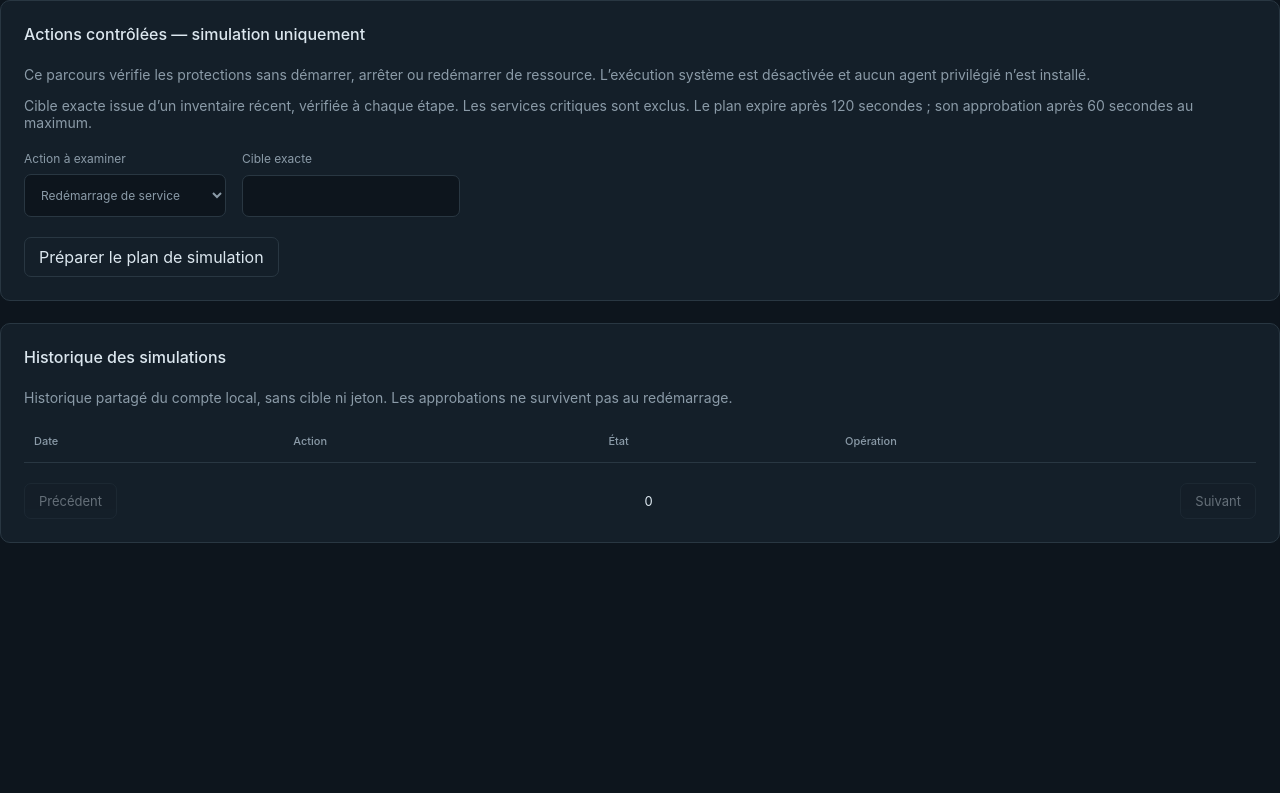
Test case: discards approval flow when target revalidation fails
Step 1. Type "cron.service" into the field labelled "Cible exacte" → (351, 196), box [242, 175, 460, 217]
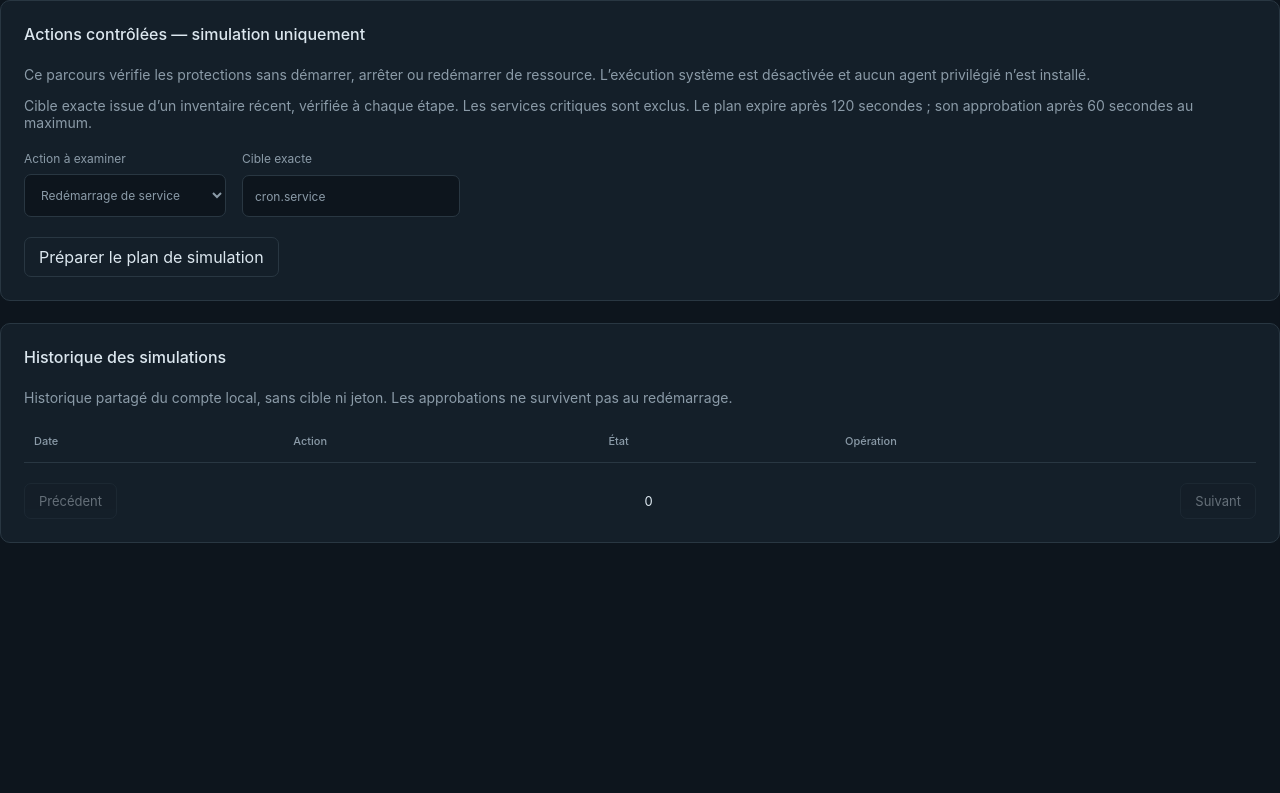
Step 2. Click the button "Préparer le plan de simulation" → click(151, 257), box [24, 237, 279, 277]
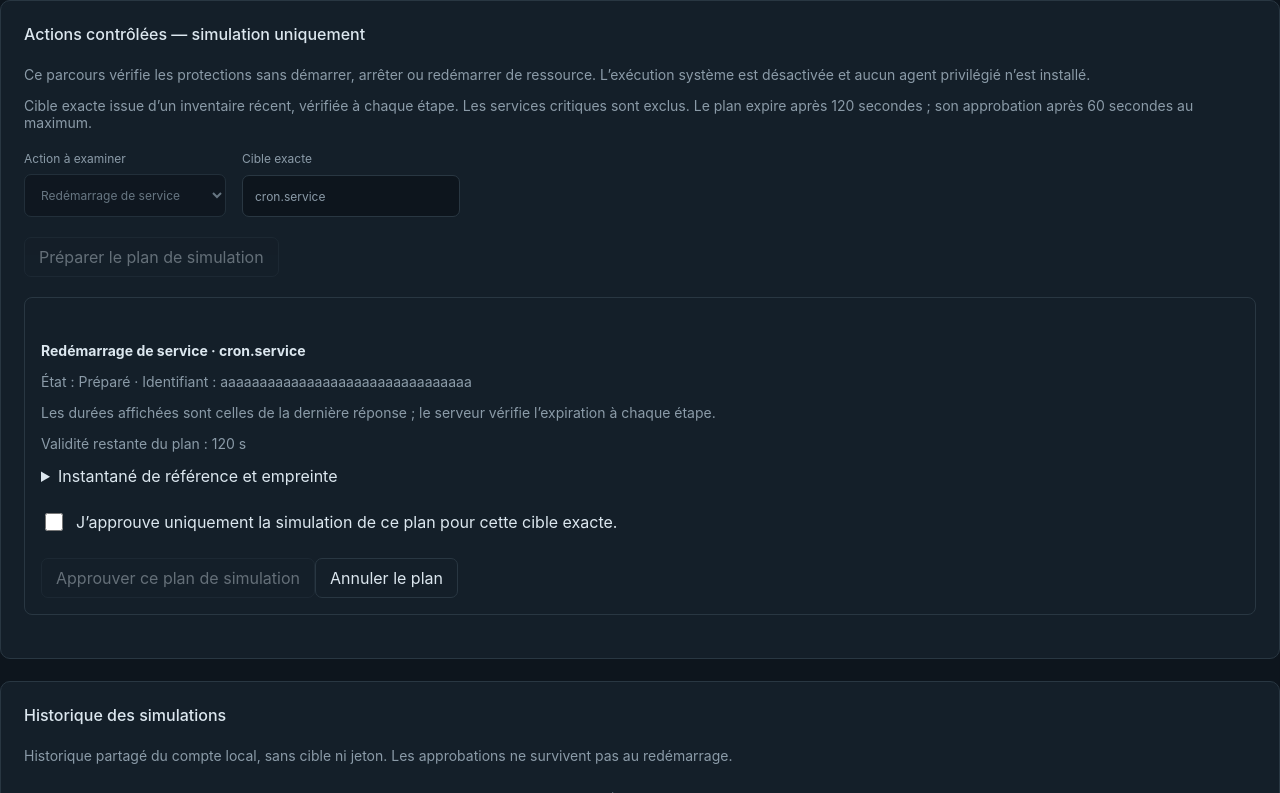
Result: the heading "Redémarrage de service · cron.service" is shown at [41, 342, 306, 359]
Step 3. Click the checkbox → click(54, 522), box [45, 513, 63, 531]
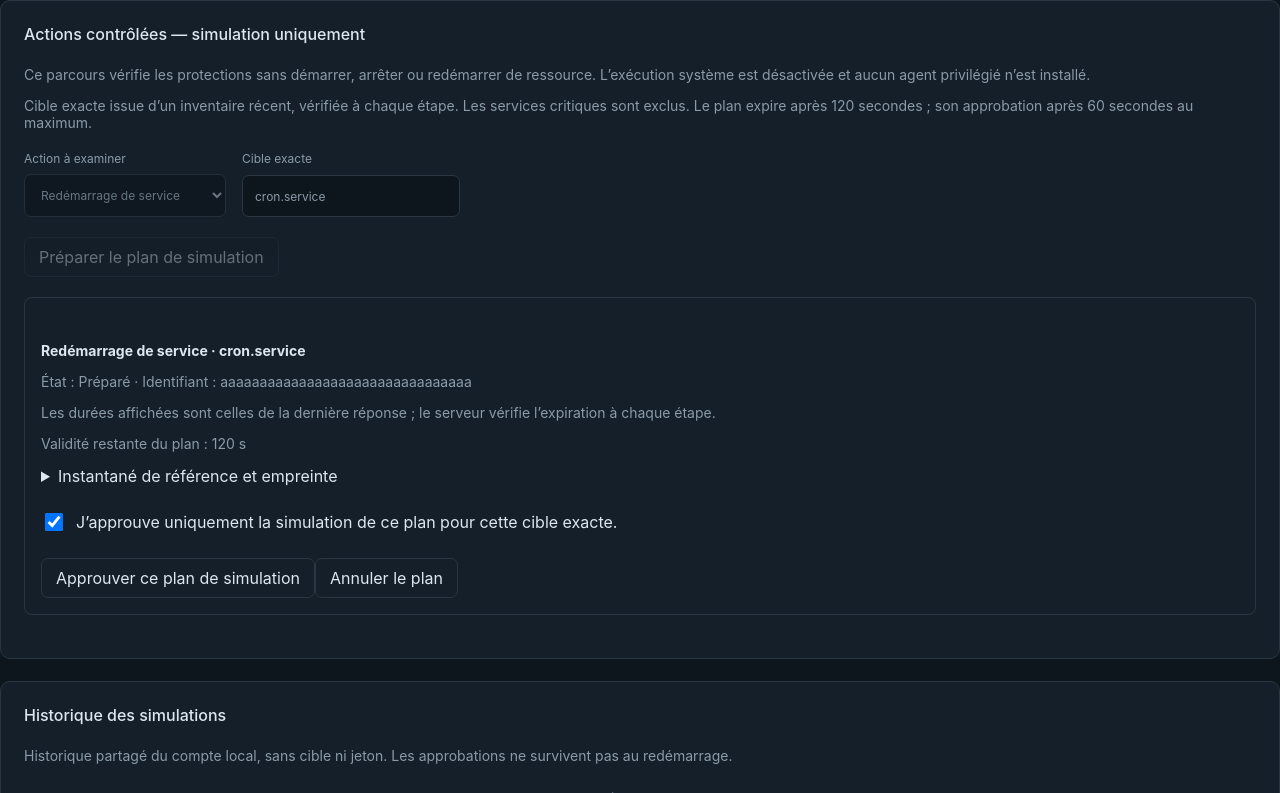
Step 4. Click the button "Approuver ce plan de simulation" → click(178, 578), box [41, 558, 315, 598]
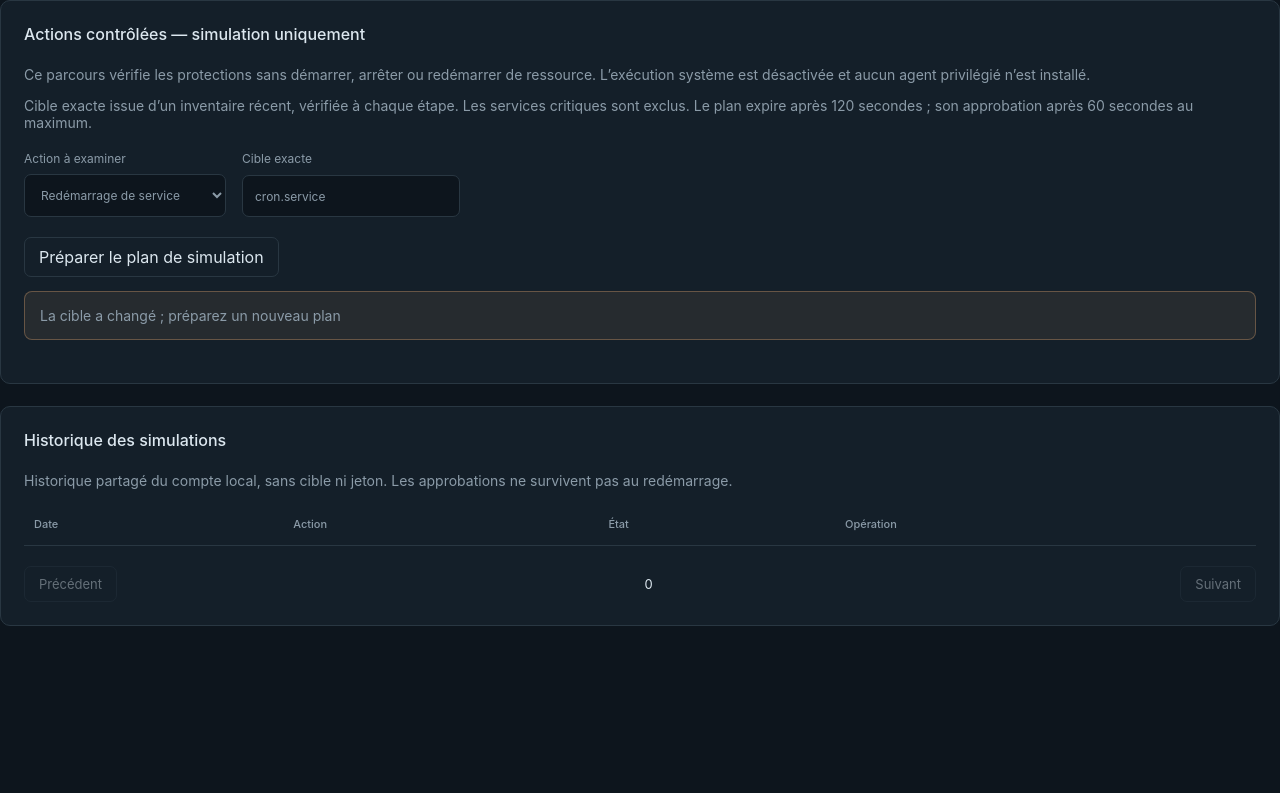
Result: the message shows "La cible a changé" at [40, 307, 341, 324]
Result: the checkbox is gone
